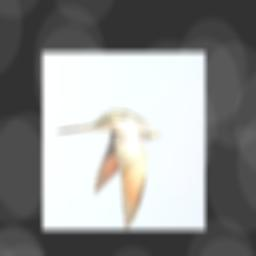Cuckoo: (57, 112, 160, 230)
